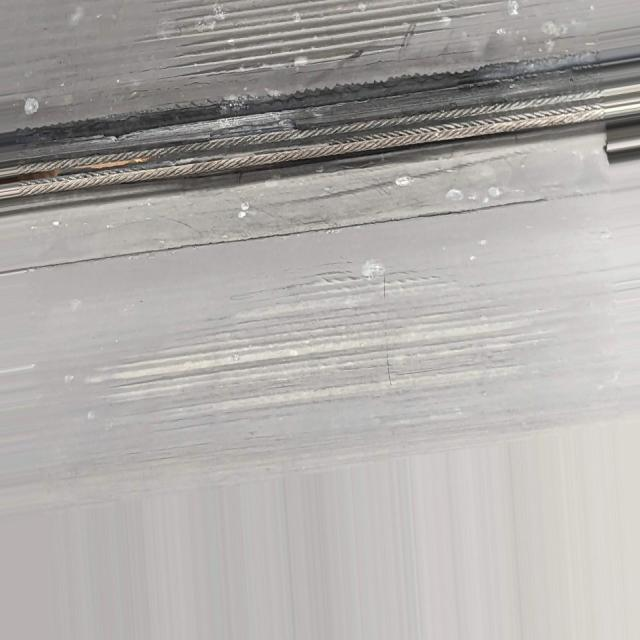impact damage: (0, 63, 601, 210), (176, 0, 486, 85)
